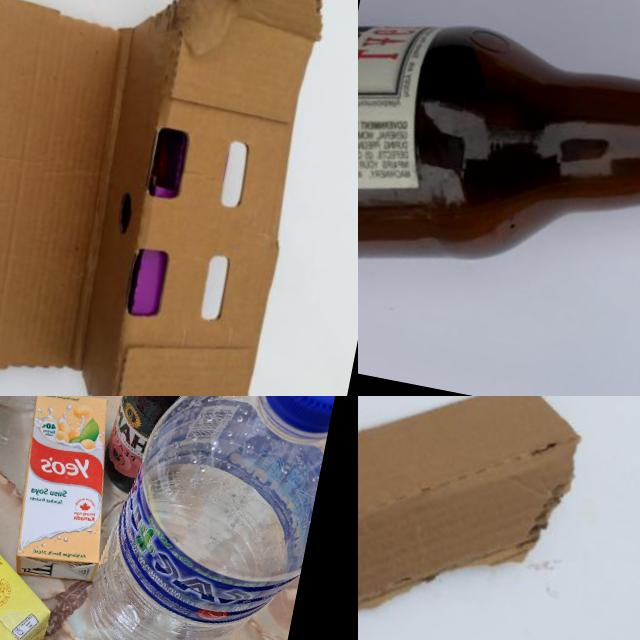caixinha: (3, 396, 127, 590), (0, 458, 73, 640)
garrafa de vidro: (358, 2, 640, 351), (98, 396, 254, 508)
garrafa plástica: (76, 396, 337, 640)
papelão: (0, 0, 330, 396), (358, 396, 590, 640)
tampa plástica: (257, 396, 347, 435)
